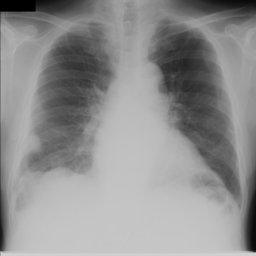left lobe: (150, 21, 241, 200)
right lobe: (22, 22, 113, 174)
